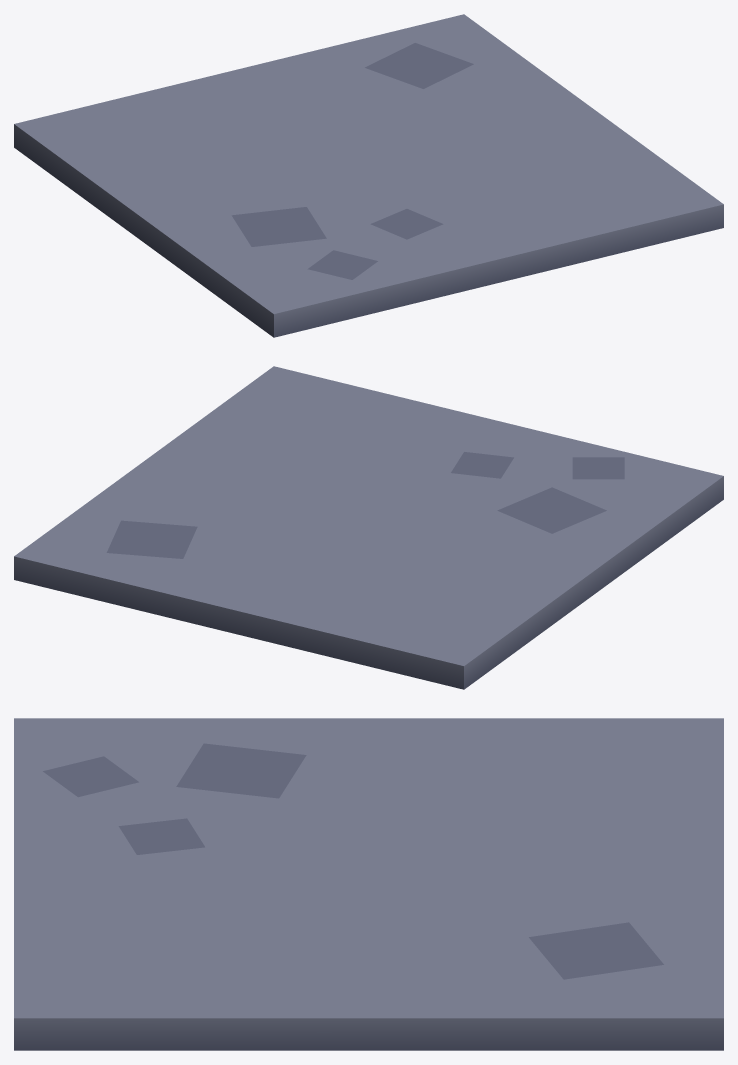
File: k-pavement.glb
3 renders of one model, top to bottom at view 1: azimuth 30°, elevation 25°; view 2: azimuth 150°, elevation 25°; view 3: azimuth 270°, elevation 25°, orthographic. The views are drawn at different scales.
Parts seen in each view (by area): view 1: pavement; view 2: pavement; view 3: pavement.
Boxes of the visible parts, x1,y1,x2,y2 form: pavement: (14, 14, 723, 337); pavement: (14, 366, 723, 689); pavement: (14, 718, 723, 1050).
Size of the model in its own units: 1 by 0.06 by 1.
Materials: 1 (1 with a texture image).
